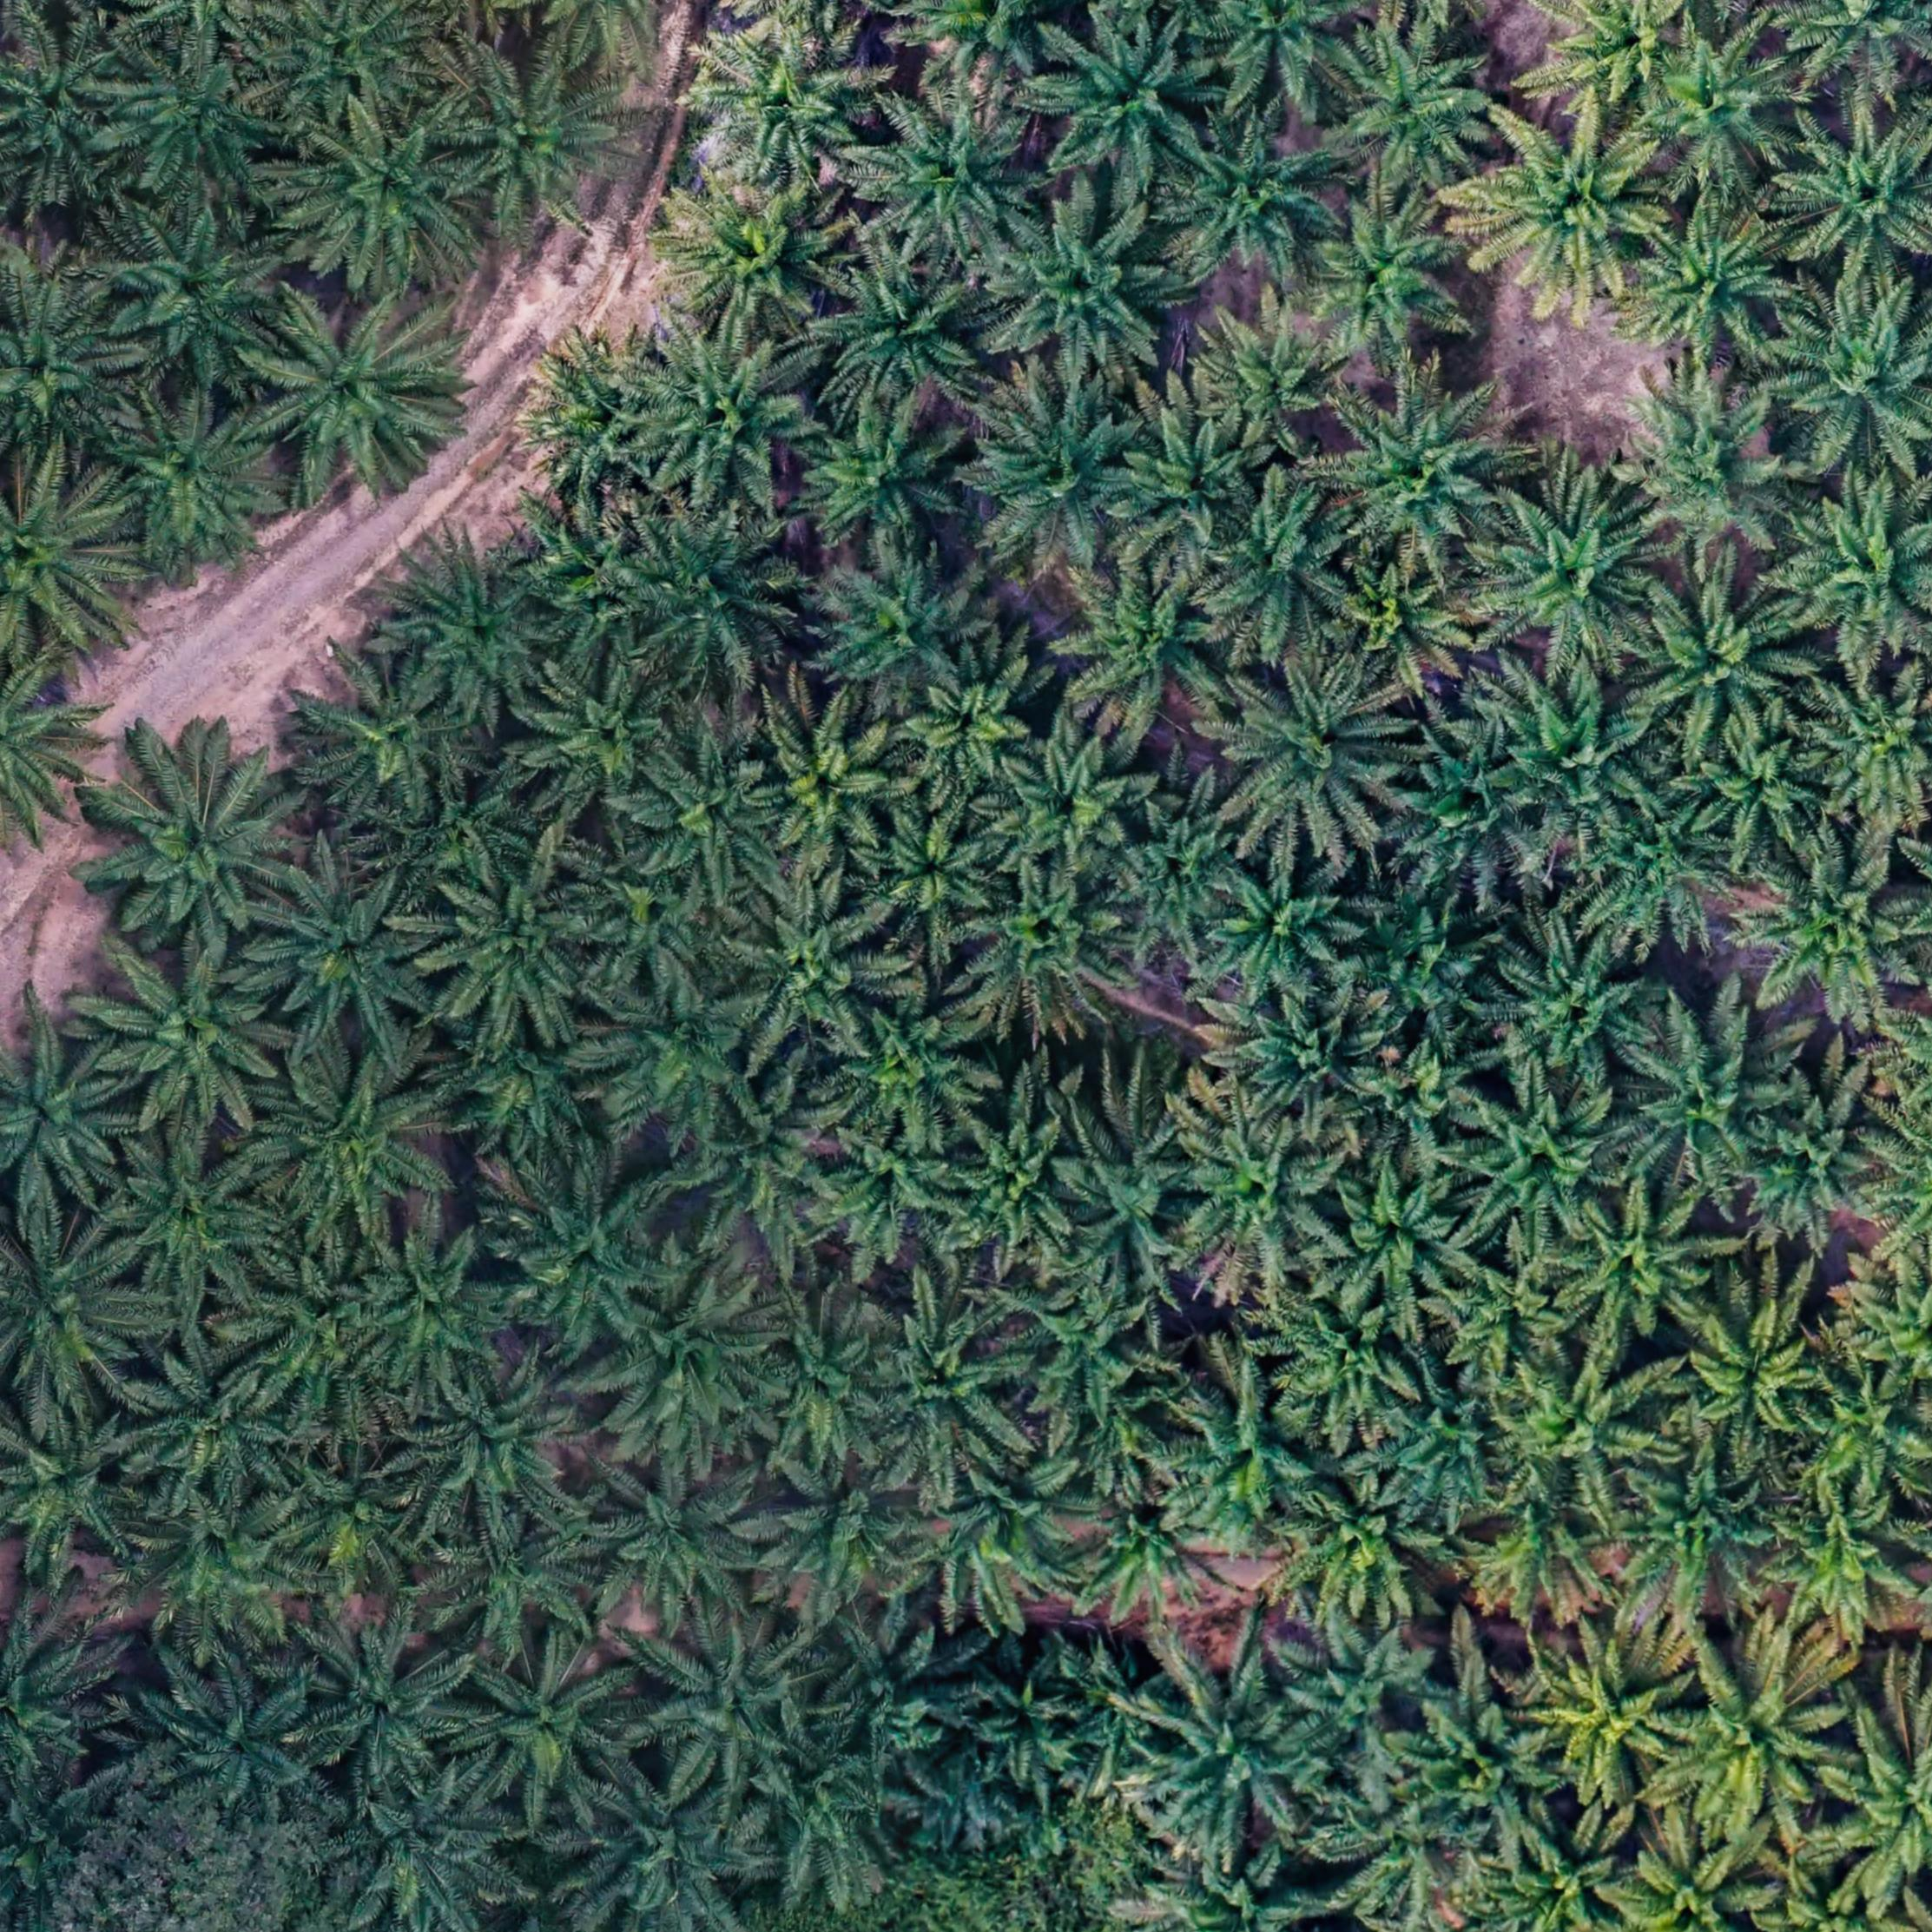palmtree: (92, 748, 310, 954), (1652, 1631, 1856, 1847), (626, 1606, 839, 1806), (1467, 113, 1675, 313), (253, 297, 462, 495), (582, 1270, 786, 1470), (978, 193, 1189, 386), (1215, 653, 1414, 853), (251, 1051, 456, 1244), (1736, 837, 1932, 1037), (906, 1438, 1108, 1631), (283, 108, 492, 294), (625, 324, 828, 513), (1323, 375, 1522, 568), (490, 1161, 681, 1361), (1479, 476, 1674, 671), (1619, 372, 1808, 571), (665, 1072, 856, 1269), (398, 1346, 598, 1534), (1145, 1656, 1336, 1851), (966, 386, 1157, 579), (97, 947, 294, 1134), (439, 42, 635, 230), (133, 1656, 338, 1835), (253, 862, 444, 1053), (1614, 1005, 1803, 1198), (1161, 111, 1357, 295), (1518, 1614, 1704, 1806), (623, 511, 810, 699), (108, 205, 299, 389), (423, 860, 614, 1044), (315, 1760, 522, 1930), (1272, 1461, 1476, 1633), (290, 1612, 478, 1798), (862, 1292, 1037, 1490), (686, 23, 883, 198), (580, 1453, 777, 1628), (117, 1486, 315, 1660), (1493, 1339, 1679, 1523), (1488, 669, 1674, 853), (1608, 1440, 1790, 1628), (1054, 561, 1246, 740), (805, 249, 1000, 425), (1031, 14, 1219, 195), (803, 545, 998, 718), (341, 1221, 525, 1403), (1629, 571, 1817, 750), (101, 389, 290, 566), (860, 97, 1051, 272), (453, 1644, 644, 1819), (571, 1757, 764, 1930), (722, 879, 906, 1060), (586, 971, 768, 1152), (1382, 731, 1562, 913), (1486, 920, 1672, 1097), (754, 1445, 943, 1619), (108, 1129, 290, 1307), (740, 1716, 924, 1893), (1661, 1283, 1836, 1468), (1164, 1369, 1343, 1550), (380, 554, 566, 727), (301, 660, 488, 832), (1306, 191, 1481, 373), (1456, 1077, 1638, 1253), (1399, 1683, 1575, 1865), (1327, 19, 1506, 196), (1173, 1106, 1357, 1277), (1773, 290, 1932, 488), (122, 1334, 306, 1504), (959, 869, 1143, 1037), (667, 173, 849, 341), (1736, 1074, 1898, 1261), (1546, 1184, 1723, 1355), (0, 1215, 152, 1414), (630, 734, 800, 911), (1624, 209, 1803, 377), (791, 400, 975, 563), (108, 44, 294, 205), (428, 1014, 619, 1169), (754, 697, 920, 874), (0, 274, 147, 474), (1760, 1477, 1928, 1651), (1345, 878, 1520, 1044), (1580, 786, 1750, 955), (1058, 1109, 1214, 1293), (0, 458, 142, 660), (1281, 1615, 1453, 1782), (1780, 108, 1932, 295), (1316, 1166, 1490, 1330), (890, 644, 1060, 810), (1645, 25, 1810, 196), (805, 1612, 977, 1776), (0, 1405, 156, 1585), (426, 1513, 609, 1667), (361, 770, 541, 922), (1201, 481, 1364, 648), (987, 731, 1159, 888), (752, 1299, 909, 1470), (1315, 1762, 1481, 1923), (1782, 483, 1932, 660), (939, 1100, 1100, 1265), (996, 1276, 1162, 1435), (1063, 1486, 1240, 1635), (524, 665, 688, 824), (1460, 1483, 1629, 1637), (1203, 853, 1368, 1010), (0, 23, 143, 203), (0, 1028, 140, 1212), (812, 1118, 977, 1274), (1100, 791, 1256, 955), (823, 994, 993, 1145), (255, 0, 444, 134), (271, 1438, 433, 1594), (1267, 1281, 1430, 1437), (235, 1242, 391, 1405), (1221, 989, 1391, 1138), (1115, 412, 1270, 573), (1465, 1806, 1656, 1932), (1330, 554, 1490, 704), (1375, 1368, 1522, 1530), (0, 1603, 122, 1798), (862, 798, 1014, 954), (1200, 311, 1353, 462), (1822, 1709, 1932, 1918), (955, 1645, 1102, 1796), (0, 648, 106, 853), (1353, 1030, 1506, 1171), (1803, 663, 1932, 830), (522, 356, 665, 502), (518, 502, 660, 651), (1192, 0, 1375, 113), (1134, 1836, 1345, 1932), (1690, 725, 1838, 858), (1798, 1361, 1932, 1506), (573, 883, 734, 1000), (1440, 1246, 1576, 1384), (1606, 1826, 1783, 1932), (895, 0, 1085, 96), (1536, 0, 1674, 131), (1780, 0, 1932, 97)
